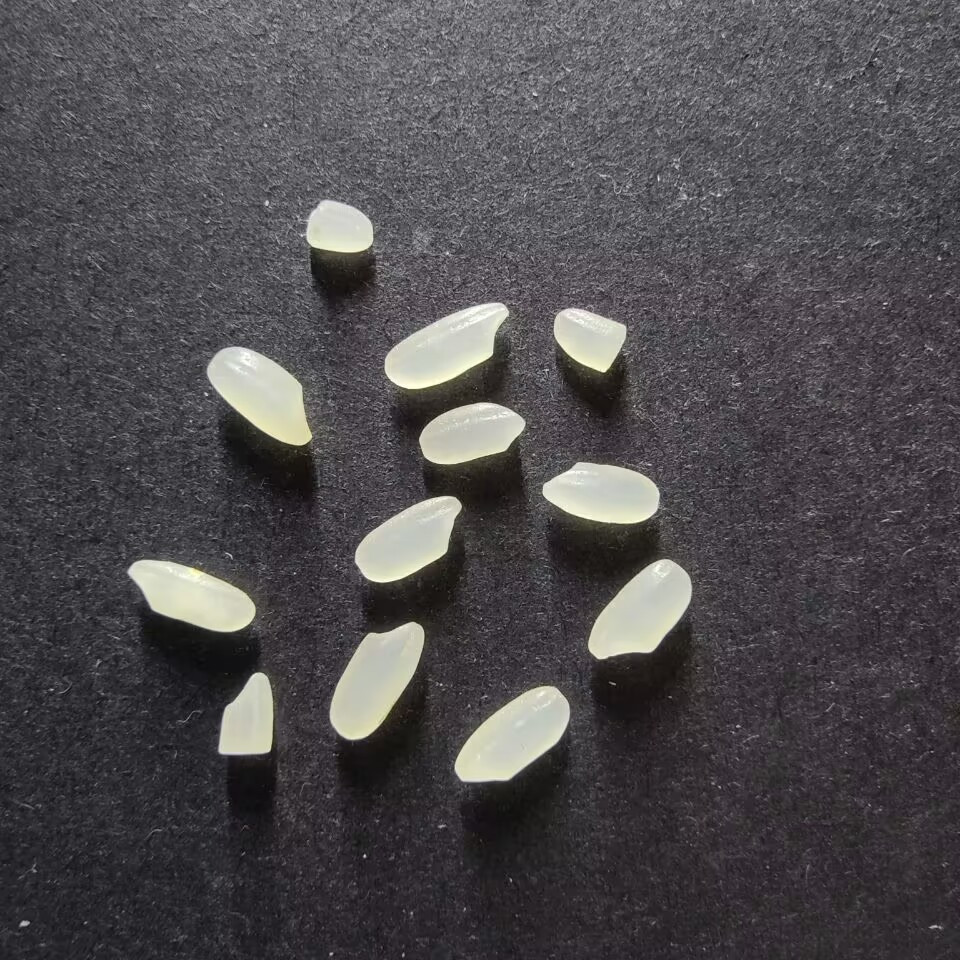broken: (551, 307, 627, 373), (216, 671, 274, 757), (305, 199, 374, 253)
rice: (328, 619, 425, 740), (453, 684, 569, 783), (383, 300, 508, 389), (205, 346, 313, 446), (587, 558, 692, 660), (126, 558, 256, 633), (353, 495, 463, 582), (541, 461, 660, 524), (418, 402, 525, 464)
